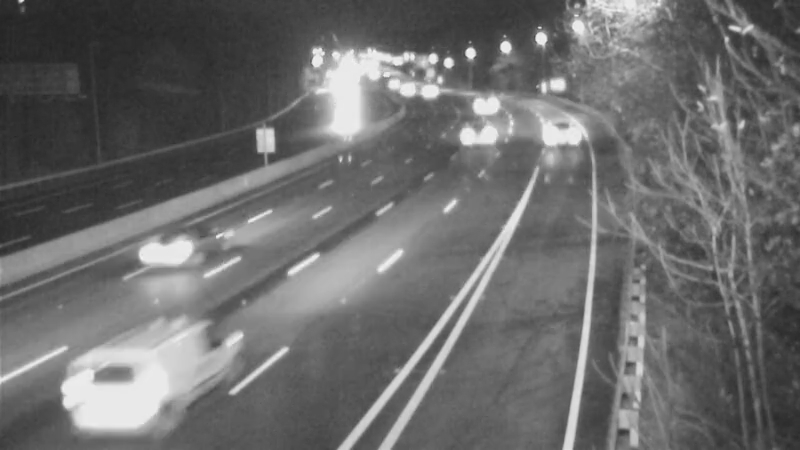vehicle: (55, 342, 165, 450), (129, 212, 209, 292), (384, 64, 434, 114), (406, 67, 456, 117), (458, 81, 508, 131), (530, 118, 580, 168), (461, 110, 511, 160)
